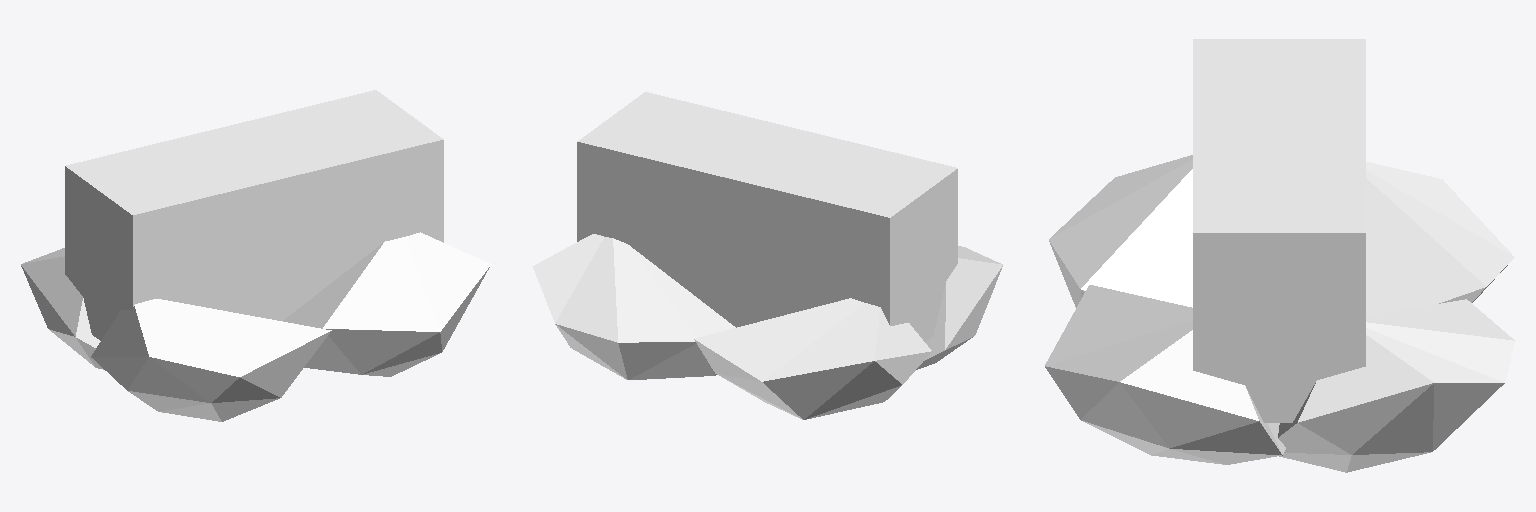
URDF robot description (hyq_trunk_large):
<robot name="hyq_trunk_large">
  <link name="base_link">
  <inertial>
     <mass value="50.26"/>
     <inertia ixx="1." ixy="0.0" ixz="0.0" iyy="1." iyz="0.0" izz="1."/>
  </inertial>
    <visual>
      <origin xyz="0 0 0" rpy="0 0 0" scale="2 2 2"/>
      <geometry>
        <mesh filename="package://hpp-rbprm-corba/meshes/hyq/hyq_all.stl"/>
      </geometry>
      <material name="white">
        <color rgba="1 1 1 1"/>
      </material>
    </visual>
    <collision>
      <origin xyz="0 0 0" rpy="0 0 0" scale="5 5 5"/>
      <geometry>
        <mesh filename="package://hpp-rbprm-corba/meshes/hyq/hyq_trunk_large4.stl" scale="1 1 1"/>
      </geometry>
    </collision>
  </link>
</robot>

--- Facts derived from the render (not from the file) ---
Views: 3 orthographic renders of the robot side by side, from view 1: azimuth 30°, elevation 25°; view 2: azimuth 150°, elevation 25°; view 3: azimuth 270°, elevation 25°.
Model hyq_trunk_large with 1 links and 0 joints (none), rooted at base_link, posed every joint at zero.
Visible links, largest first — view 1: base_link; view 2: base_link; view 3: base_link.
Link boxes in pixels (x1,y1,x2,y2): base_link: (21, 90, 490, 421); base_link: (533, 92, 1002, 419); base_link: (1045, 39, 1514, 472).
Size in the robot's own frame: 1.78 by 1.65 by 1.07 metres.
1 mesh visuals loaded from 1 distinct referenced files (1 binary STL).
